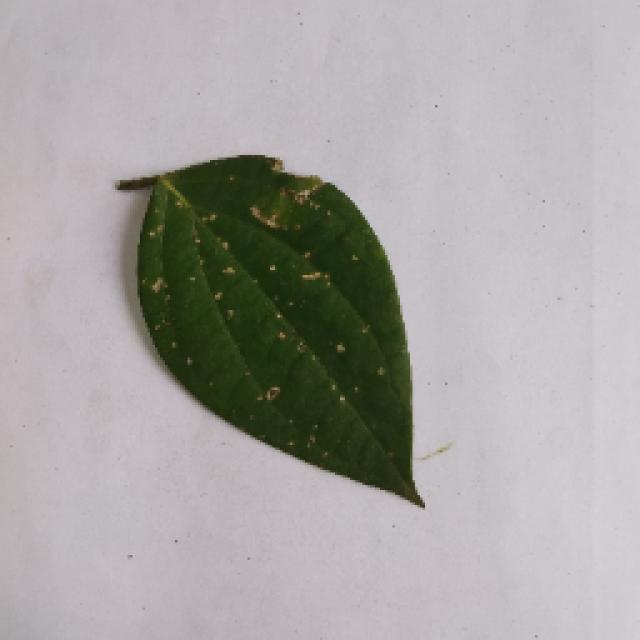pollu-disease: (108, 140, 440, 508)
